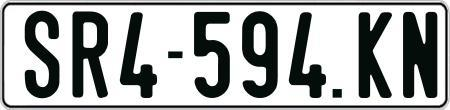4: (118, 11, 161, 103), (289, 9, 329, 95)
5: (191, 12, 231, 102)
9: (239, 8, 276, 98)
K: (358, 10, 393, 102)
N: (401, 12, 435, 103)
R: (73, 8, 112, 99)
S: (24, 9, 64, 99)
